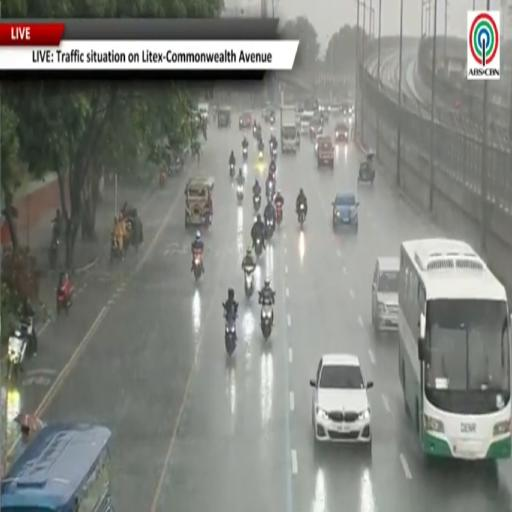bus: (399, 239, 511, 459), (0, 424, 113, 511)
car: (310, 354, 373, 450), (372, 258, 399, 331), (333, 192, 359, 231), (317, 136, 334, 169), (309, 115, 323, 140), (315, 135, 329, 155), (335, 123, 349, 142), (239, 112, 253, 130), (262, 102, 274, 123), (342, 102, 354, 121), (318, 103, 329, 121), (328, 103, 341, 117)
jeepney: (185, 176, 214, 228), (217, 106, 231, 129)
motorcycle: (7, 330, 28, 380), (57, 283, 73, 314), (261, 303, 273, 341), (48, 233, 60, 270), (225, 317, 236, 356), (110, 236, 124, 262), (192, 250, 204, 280), (244, 267, 254, 298), (265, 218, 275, 240), (266, 180, 275, 201), (275, 203, 283, 226), (254, 238, 263, 258), (298, 204, 305, 229), (159, 170, 167, 188), (237, 184, 244, 202), (253, 196, 260, 212), (271, 144, 277, 159), (242, 146, 248, 161), (229, 163, 235, 178), (258, 150, 264, 164), (253, 126, 257, 138), (270, 115, 275, 124)
tricycle: (358, 153, 375, 184)
truck: (280, 106, 299, 153)
